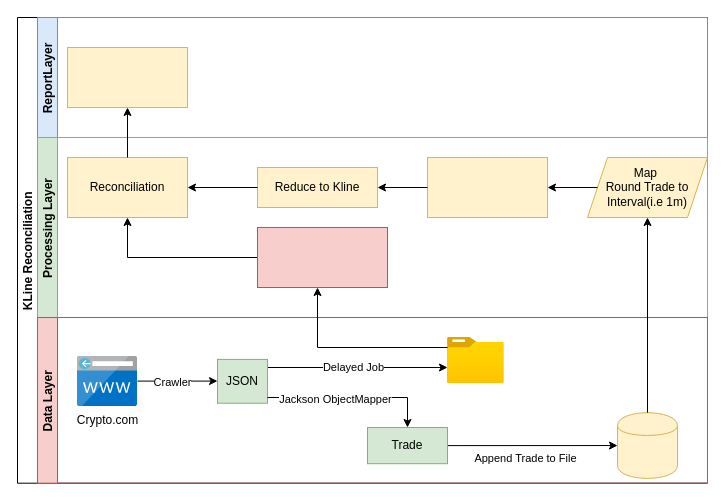
The diagram is 725 pixels wide and 501 high, and some of its shapes have lost their labels. Each missing label, with the centre of its shape:
CandleSticks: point (475, 360)
File: point (647, 445)
GroupBy Interval: point (487, 187)
Json Report: point (127, 77)
KLine to be Compared: point (322, 257)
